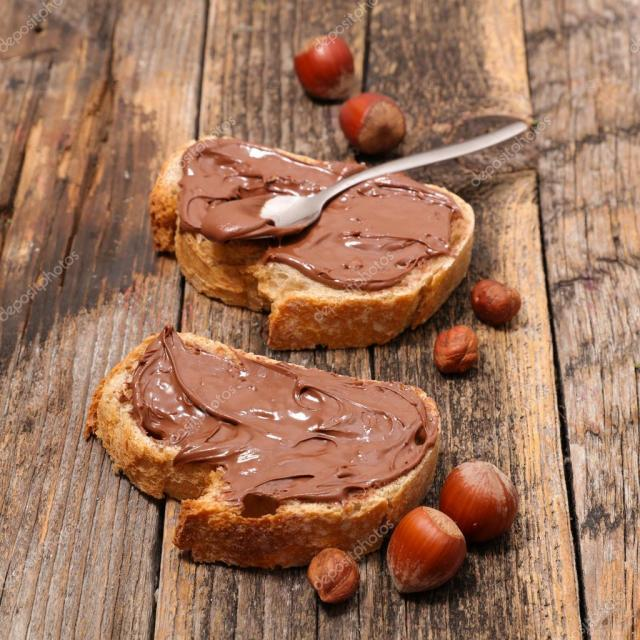Spread: (138, 333, 431, 511), (175, 149, 455, 292)
